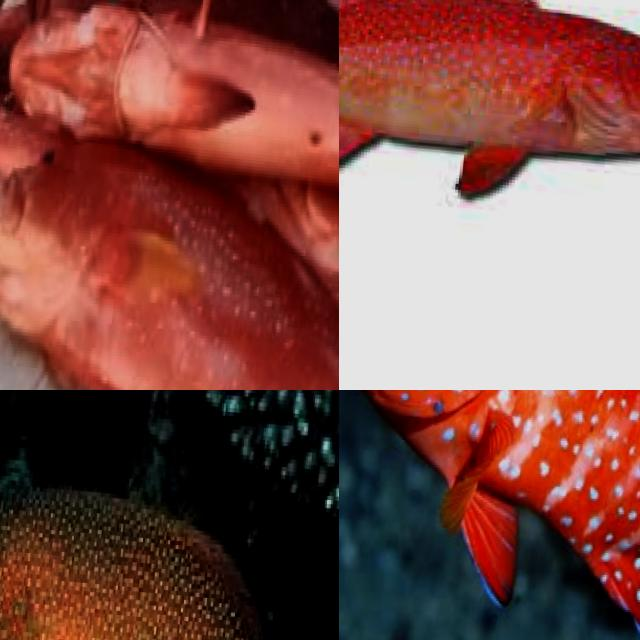Leopard coral grouper: (0, 126, 339, 390), (339, 390, 640, 640), (339, 0, 640, 219), (0, 451, 339, 640)
